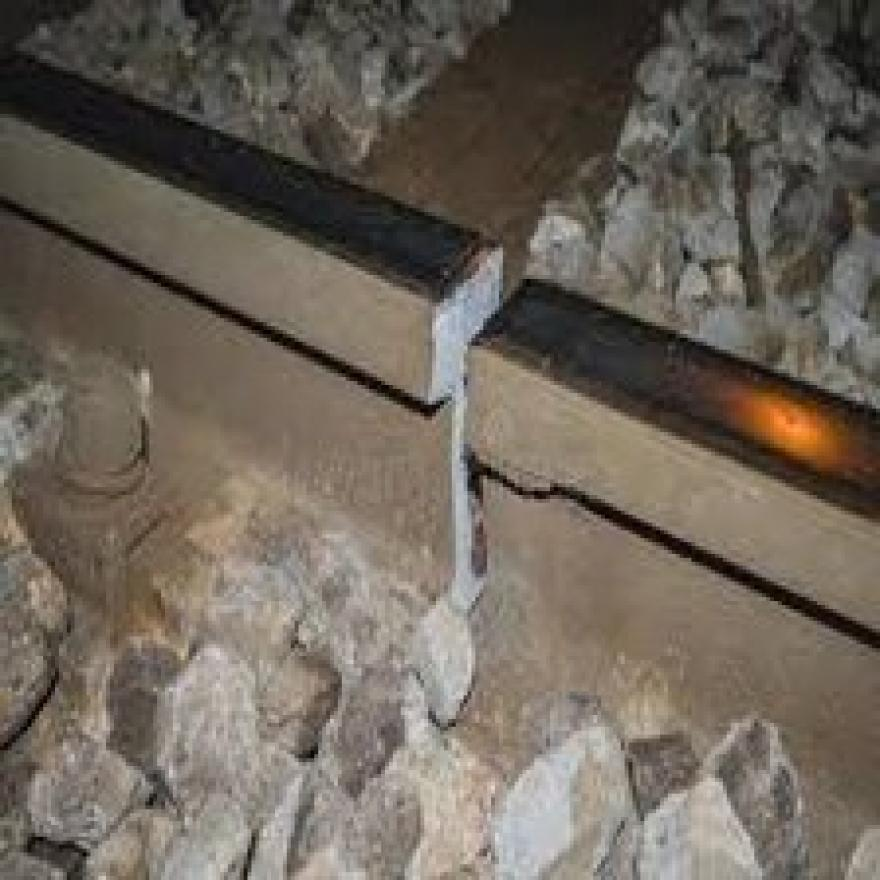railway-gap: (221, 211, 706, 720)
